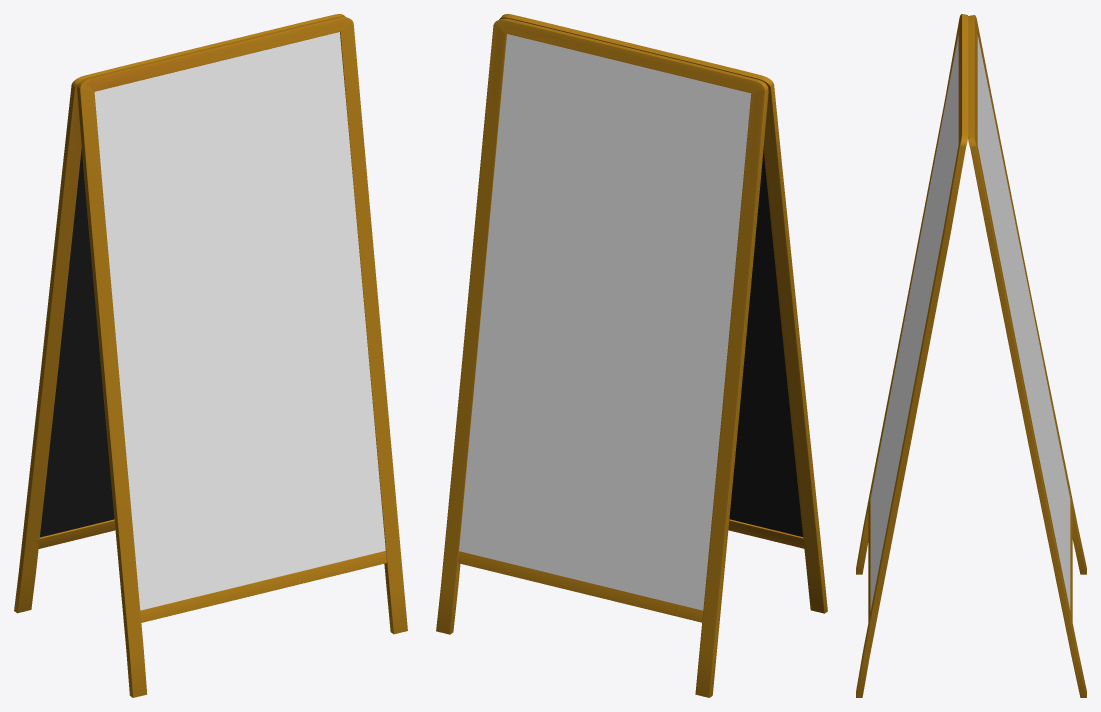
Rendered from Menu_Stander_Board.fbx.
The picture shows the model from 3 angles, left to right: view 1: azimuth 30°, elevation 25°; view 2: azimuth 150°, elevation 25°; view 3: azimuth 270°, elevation 25°; orthographic projection. The views are drawn at different scales.
Visible parts, largest first — view 1: Menu_Stander_Board_BlackBoard_Ad002, Menu_Stander_Board_Frame, Menu_Stander_Board_BlackBoard_AdBacker; view 2: Menu_Stander_Board_BlackBoard_Ad001, Menu_Stander_Board_Frame, Menu_Stander_Board_BlackBoard_AdBacker; view 3: Menu_Stander_Board_Frame, Menu_Stander_Board_BlackBoard_Ad001, Menu_Stander_Board_BlackBoard_Ad002.
Part boxes in pixels (x1=…): Menu_Stander_Board_BlackBoard_Ad002: x1=94, y1=32, x2=385, y2=610; Menu_Stander_Board_Frame: x1=14, y1=14, x2=407, y2=697; Menu_Stander_Board_BlackBoard_AdBacker: x1=40, y1=148, x2=114, y2=537; Menu_Stander_Board_BlackBoard_Ad001: x1=459, y1=34, x2=751, y2=610; Menu_Stander_Board_Frame: x1=436, y1=14, x2=827, y2=697; Menu_Stander_Board_BlackBoard_AdBacker: x1=729, y1=150, x2=802, y2=536; Menu_Stander_Board_Frame: x1=856, y1=14, x2=1086, y2=697; Menu_Stander_Board_BlackBoard_Ad001: x1=977, y1=35, x2=1070, y2=610; Menu_Stander_Board_BlackBoard_Ad002: x1=870, y1=35, x2=958, y2=609.
Bounding box in the file's own units: 29.98 × 60.01 × 22.5.
4 materials, 4 textured.
